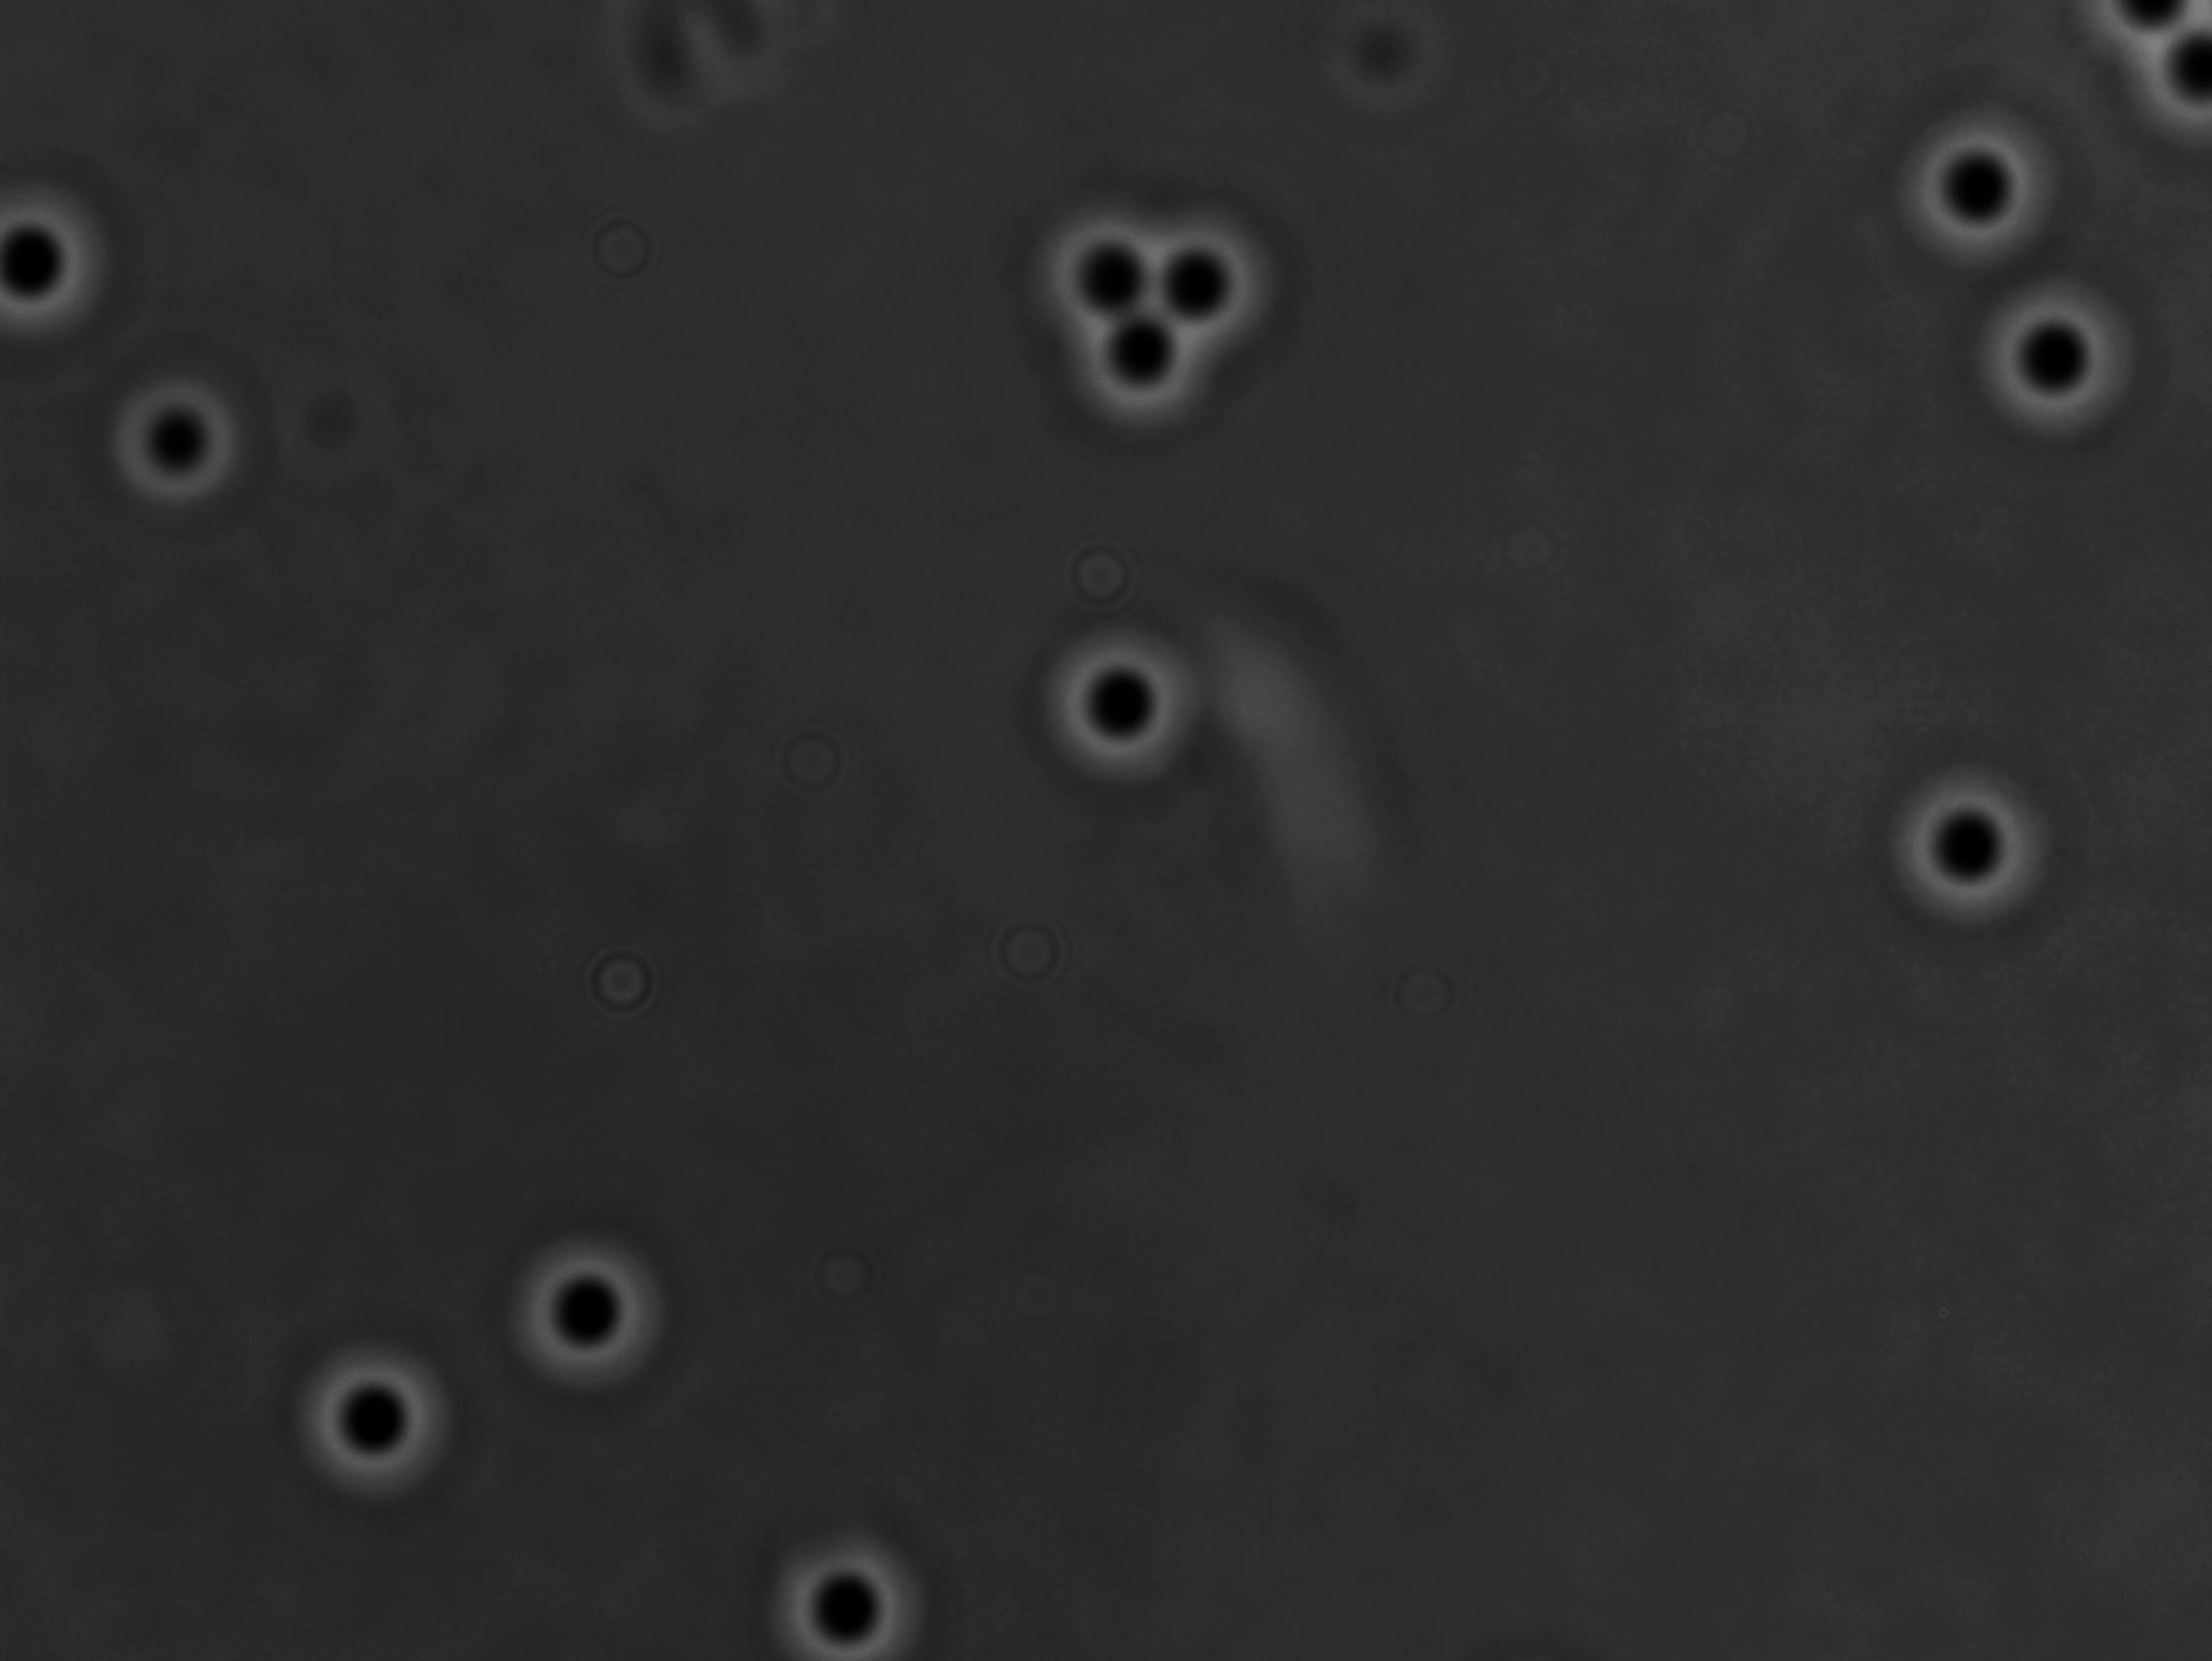depth:-80: (1847, 745, 2079, 961), (1931, 260, 2149, 464), (1118, 174, 1319, 366), (283, 1324, 483, 1514), (1027, 616, 1223, 808), (492, 1211, 689, 1396), (998, 183, 1198, 361), (1889, 105, 2079, 288), (92, 351, 274, 541), (1054, 267, 1242, 445), (747, 1520, 940, 1661)
